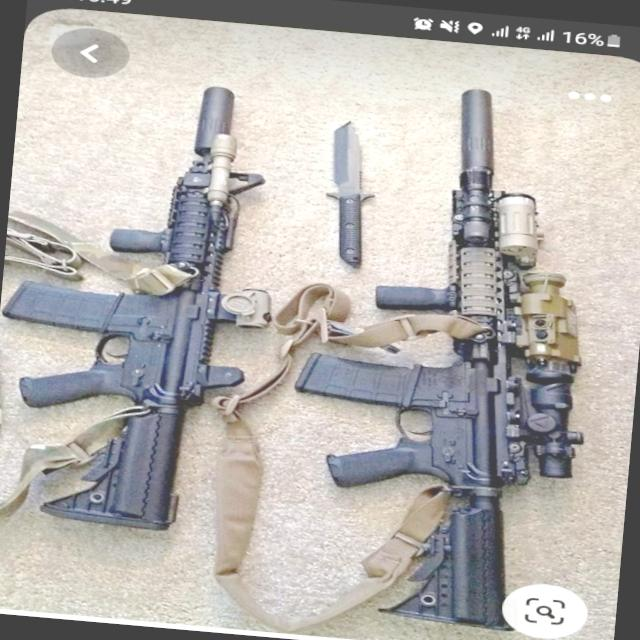m16: (0, 70, 293, 564)
